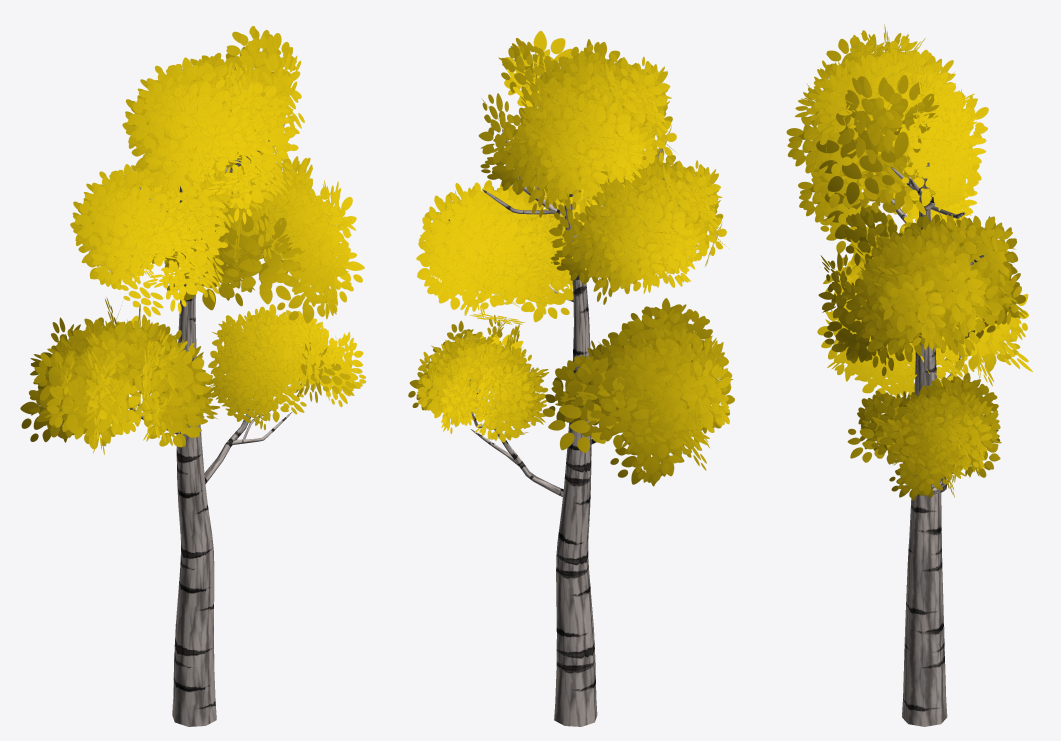
The model's file is tree-birch-1.glb.
3 views of the same model, side by side, from view 1: azimuth 30°, elevation 25°; view 2: azimuth 150°, elevation 25°; view 3: azimuth 270°, elevation 25° (orthographic). The views are drawn at different scales.
Visible parts, largest first — view 1: BirchTree_1; view 2: BirchTree_1; view 3: BirchTree_1.
Boxes of the visible parts, x1,y1,x2,y2 form: BirchTree_1: (20,26,365,726); BirchTree_1: (408,30,734,726); BirchTree_1: (786,24,1032,726).
Bounding box in the file's own units: 2.71 × 5.45 × 1.94.
2 materials, 2 textured.
